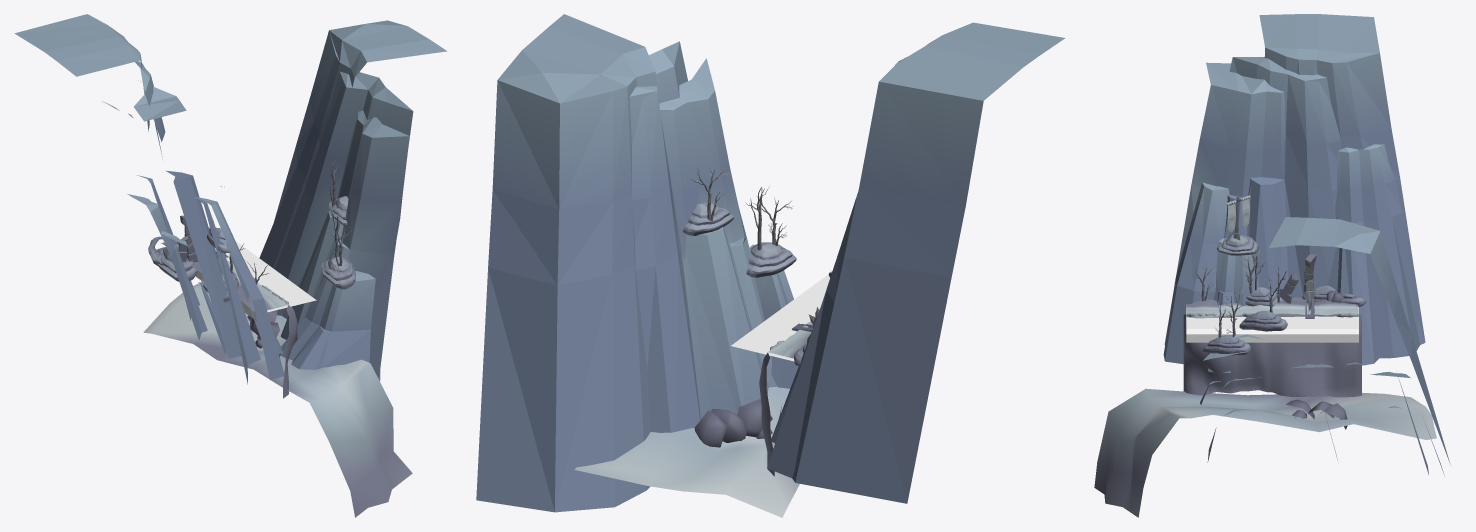
Rendered from Arctic_Narrows_Right_Straight_A_Jump_B.glb.
3 renders of one model, left to right at view 1: azimuth 30°, elevation 25°; view 2: azimuth 150°, elevation 25°; view 3: azimuth 270°, elevation 25°, orthographic. The views are drawn at different scales.
Visible parts, largest first — view 1: Arctic_Narrows_Left_IceWall_A02 (1), Arctic_Narrows_Right_Straight_A, Arctic_Narrows_Right_IceWall_A02 (1), Arctic_Narrows_Left_IceWall_A02_Right, Arctic_Narrows_Right_IceWall_A02_Left, Arctic_Narrows_Right_IceWall_A02_Mid, inv_fill; view 2: Arctic_Narrows_Left_IceWall_A02 (1), Arctic_Narrows_Right_IceWall_A02 (1), Arctic_Narrows_Right_Straight_A, Arctic_Narrows_Right_IceWall_A02_Right, inv_fill, Arctic_Narrows_Left_Rock_A01 (1), Arctic_Narrows_Left_IceWall_A02_Right; view 3: Arctic_Narrows_Right_IceWall_A02 (1), Arctic_Narrows_Right_Straight_A, Arctic_Narrows_Right_IceWall_A02_Right, Arctic_Narrows_Right_IceWall_A02_Left, Arctic_Narrows_Left_IceWall_A02 (1), inv_fill, Arctic_Narrows_Left_Rock_A01 (1), Arctic_Narrows_Left_IceWall_A02_Left.
Boxes of the visible parts, <box> form: Arctic_Narrows_Left_IceWall_A02 (1): <box>259,20,446,378</box>; Arctic_Narrows_Right_Straight_A: <box>143,242,412,517</box>; Arctic_Narrows_Right_IceWall_A02 (1): <box>14,14,260,384</box>; Arctic_Narrows_Left_IceWall_A02_Right: <box>280,271,375,369</box>; Arctic_Narrows_Right_IceWall_A02_Left: <box>196,197,284,380</box>; Arctic_Narrows_Right_IceWall_A02_Mid: <box>127,194,225,354</box>; inv_fill: <box>195,241,316,320</box>; Arctic_Narrows_Left_IceWall_A02 (1): <box>476,14,776,512</box>; Arctic_Narrows_Right_IceWall_A02 (1): <box>792,22,1065,503</box>; Arctic_Narrows_Right_Straight_A: <box>574,321,812,517</box>; Arctic_Narrows_Right_IceWall_A02_Right: <box>767,193,857,477</box>; inv_fill: <box>731,274,829,361</box>; Arctic_Narrows_Left_Rock_A01 (1): <box>694,399,772,447</box>; Arctic_Narrows_Left_IceWall_A02_Right: <box>749,244,798,388</box>; Arctic_Narrows_Right_IceWall_A02 (1): <box>1164,14,1425,344</box>; Arctic_Narrows_Right_Straight_A: <box>1094,297,1436,517</box>; Arctic_Narrows_Right_IceWall_A02_Right: <box>1327,144,1419,365</box>; Arctic_Narrows_Right_IceWall_A02_Left: <box>1163,182,1258,372</box>; Arctic_Narrows_Left_IceWall_A02 (1): <box>1227,217,1450,464</box>; inv_fill: <box>1186,307,1358,342</box>; Arctic_Narrows_Left_Rock_A01 (1): <box>1286,399,1347,429</box>; Arctic_Narrows_Left_IceWall_A02_Left: <box>1345,362,1444,475</box>.
Size of what is drawn, in the model's own units: 24.7 by 26.53 by 22.7.
